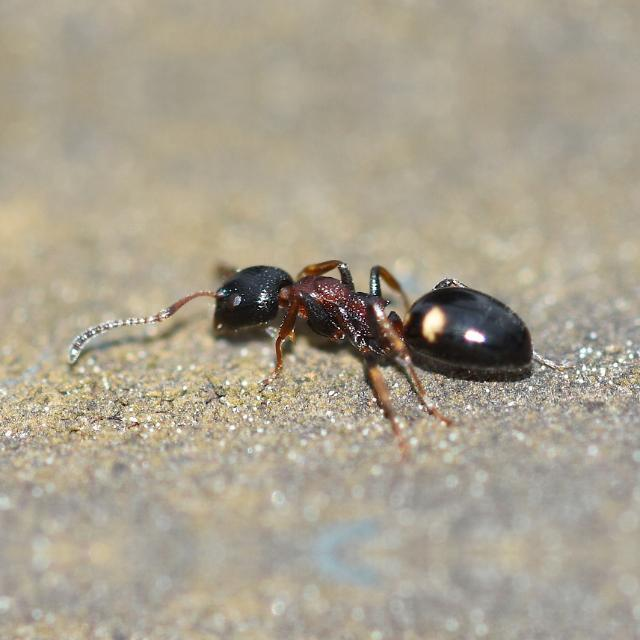Dolichoderus: (162, 227, 570, 413)
